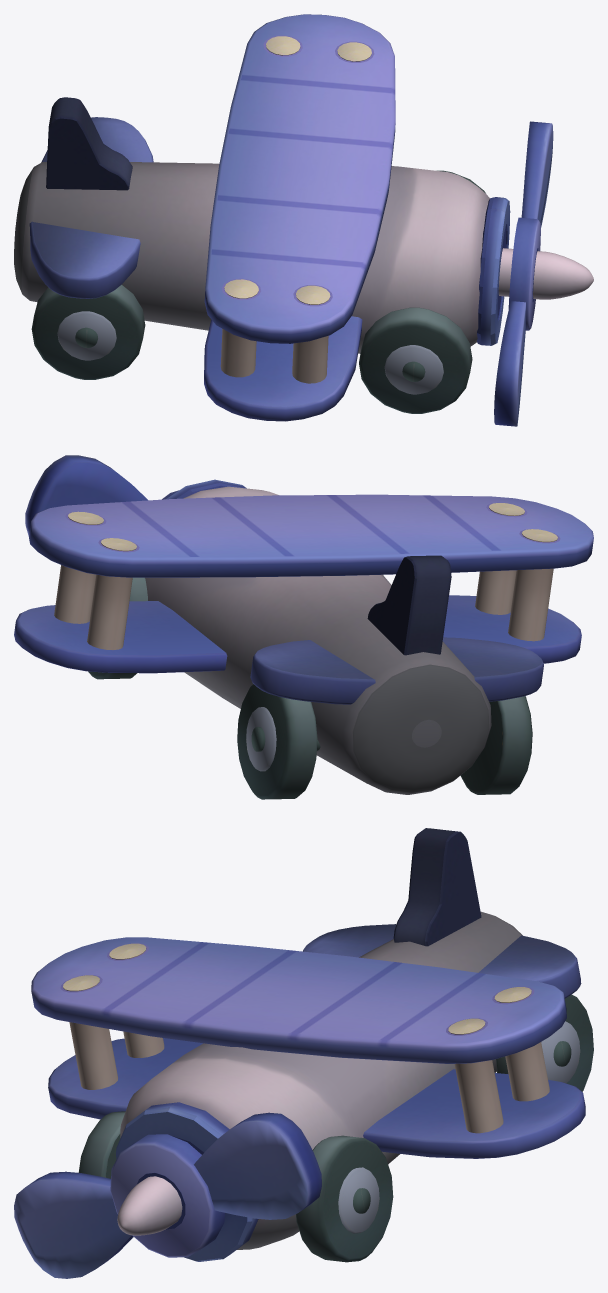
File: 宝宝巴士-主框架-推送地图-过家家-飞机.FBX
The picture shows the model from 3 angles, top to bottom: view 1: azimuth 30°, elevation 25°; view 2: azimuth 150°, elevation 25°; view 3: azimuth 270°, elevation 25°; orthographic projection. The views are drawn at different scales.
Visible parts, largest first — view 1: 宝宝巴士-主框架-推送地图-过家家-飞机; view 2: 宝宝巴士-主框架-推送地图-过家家-飞机; view 3: 宝宝巴士-主框架-推送地图-过家家-飞机.
Boxes of the visible parts, x1,y1,x2,y2 form: 宝宝巴士-主框架-推送地图-过家家-飞机: [14, 14, 593, 426]; 宝宝巴士-主框架-推送地图-过家家-飞机: [14, 455, 593, 799]; 宝宝巴士-主框架-推送地图-过家家-飞机: [14, 828, 593, 1278].
Size of the model in its own units: 255 by 131 by 233.
